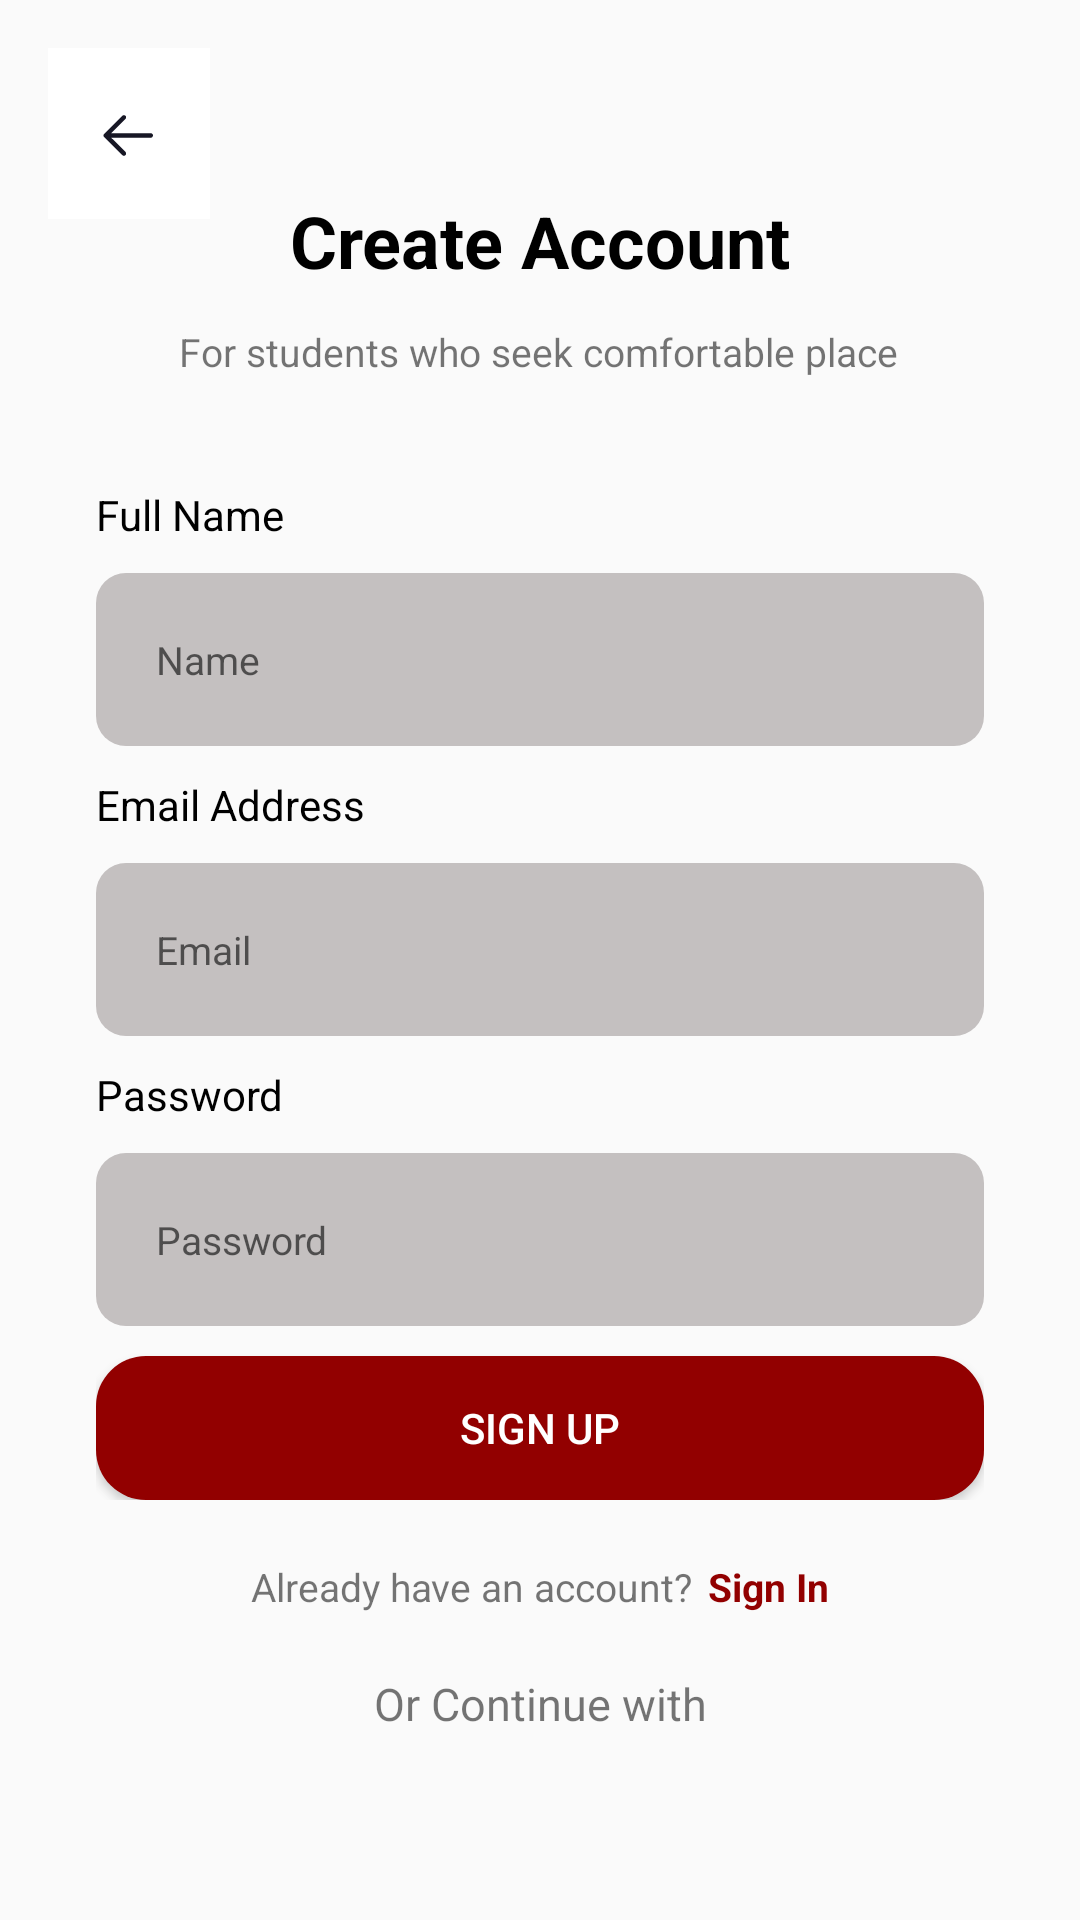

Where icons sit on this 1080×1920 app screen, as box=[x1, y1, x2, y2]:
Go back: box=[103, 115, 153, 156]
